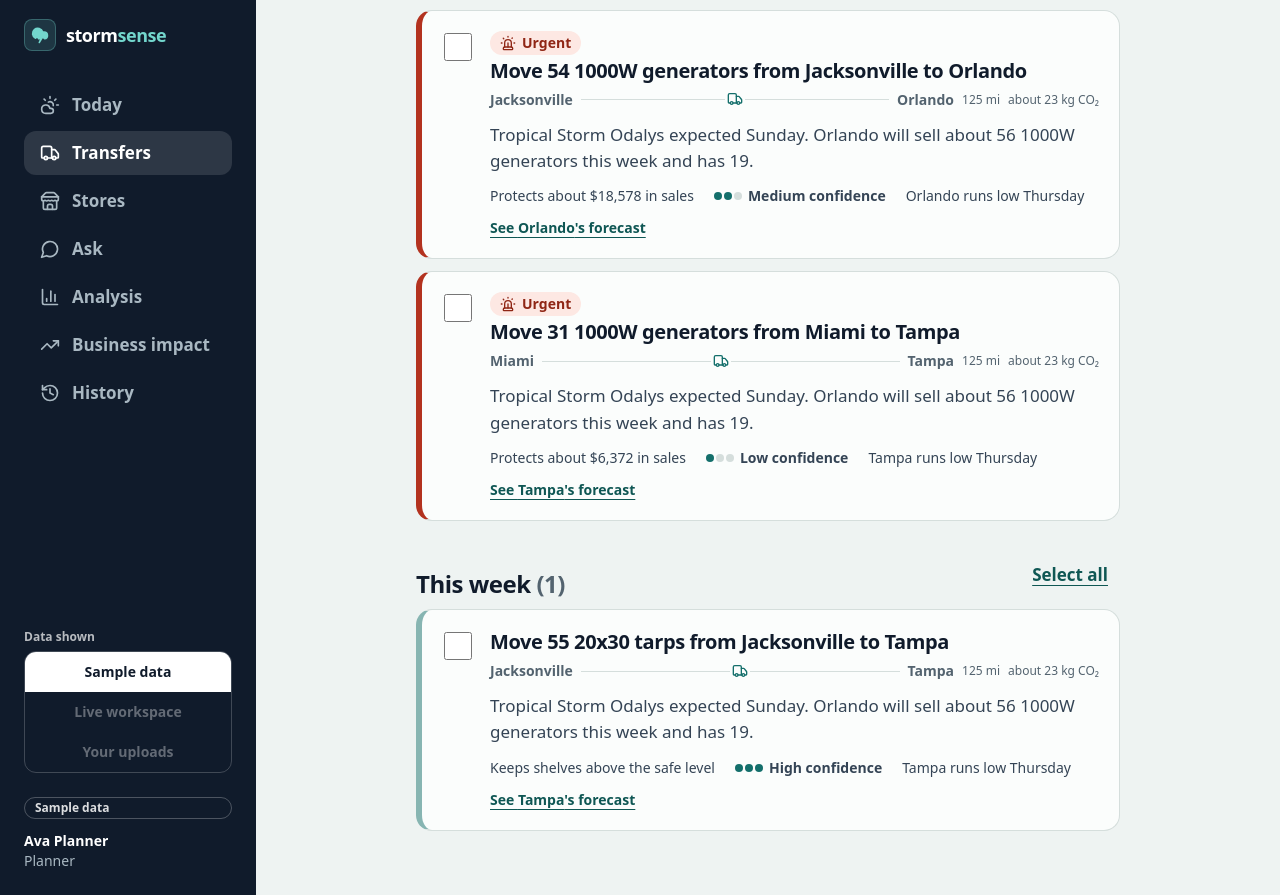
Test: Transfers › rejecting needs a reason and records it
(page scrolled)
Click the checkbox labelled "Move 55 20x30 tarps from Jacksonville to Tampa" at point(458, 646), box [444, 632, 472, 660]
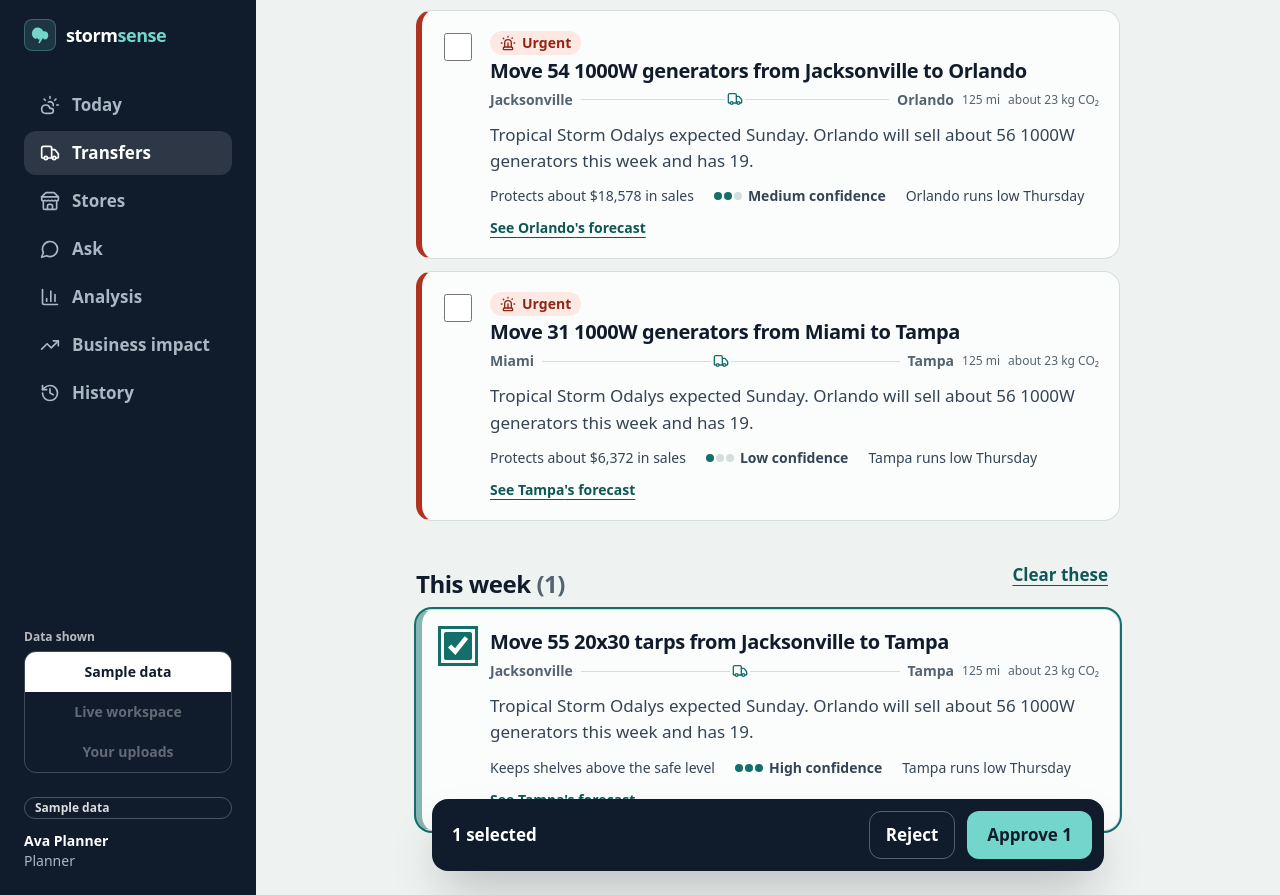
Click the button "Reject" at point(912, 835), box [869, 811, 955, 859]
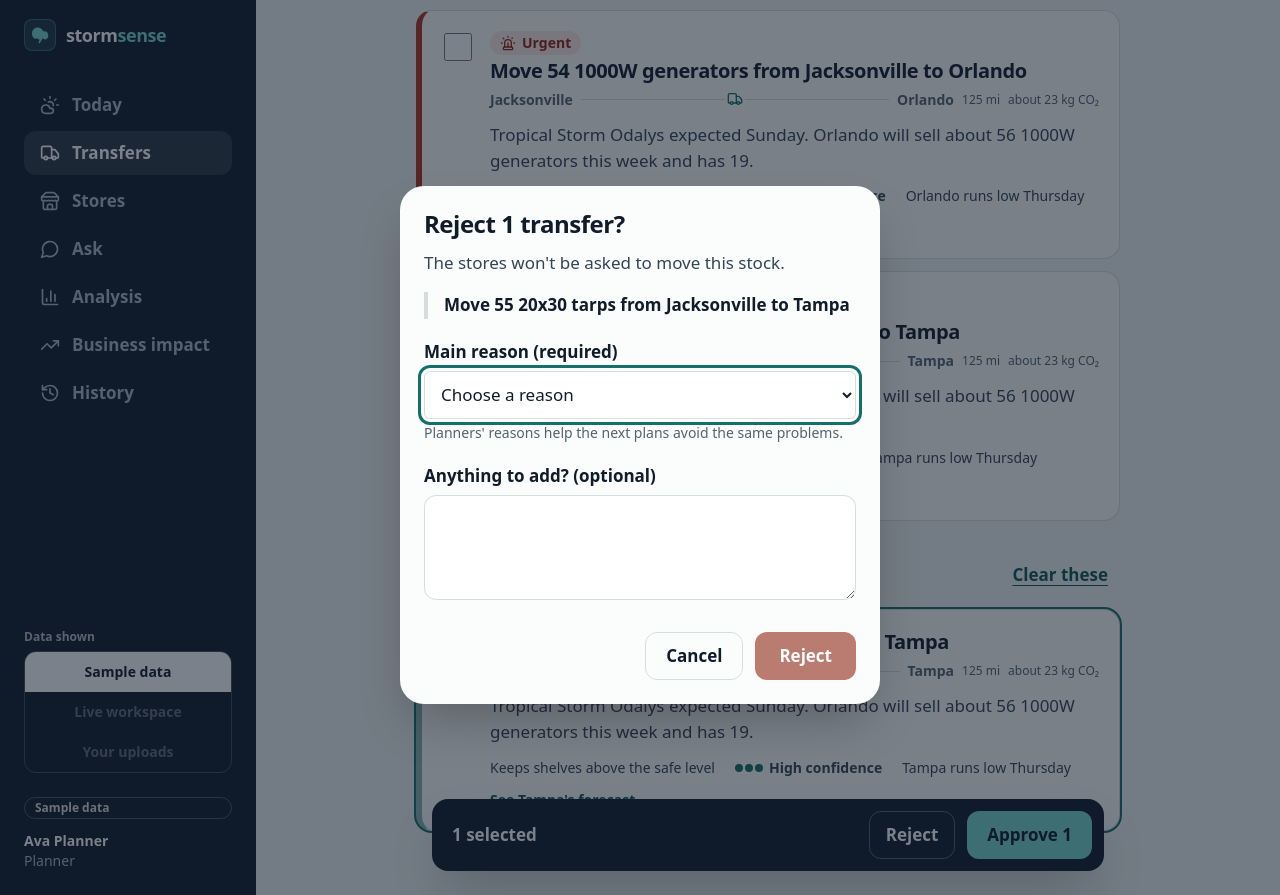
Check: the button "Reject" is disabled, box [755, 632, 856, 680]
Select "Store closed or not receiving" in the dropdown at point(640, 395), box [424, 371, 856, 419]
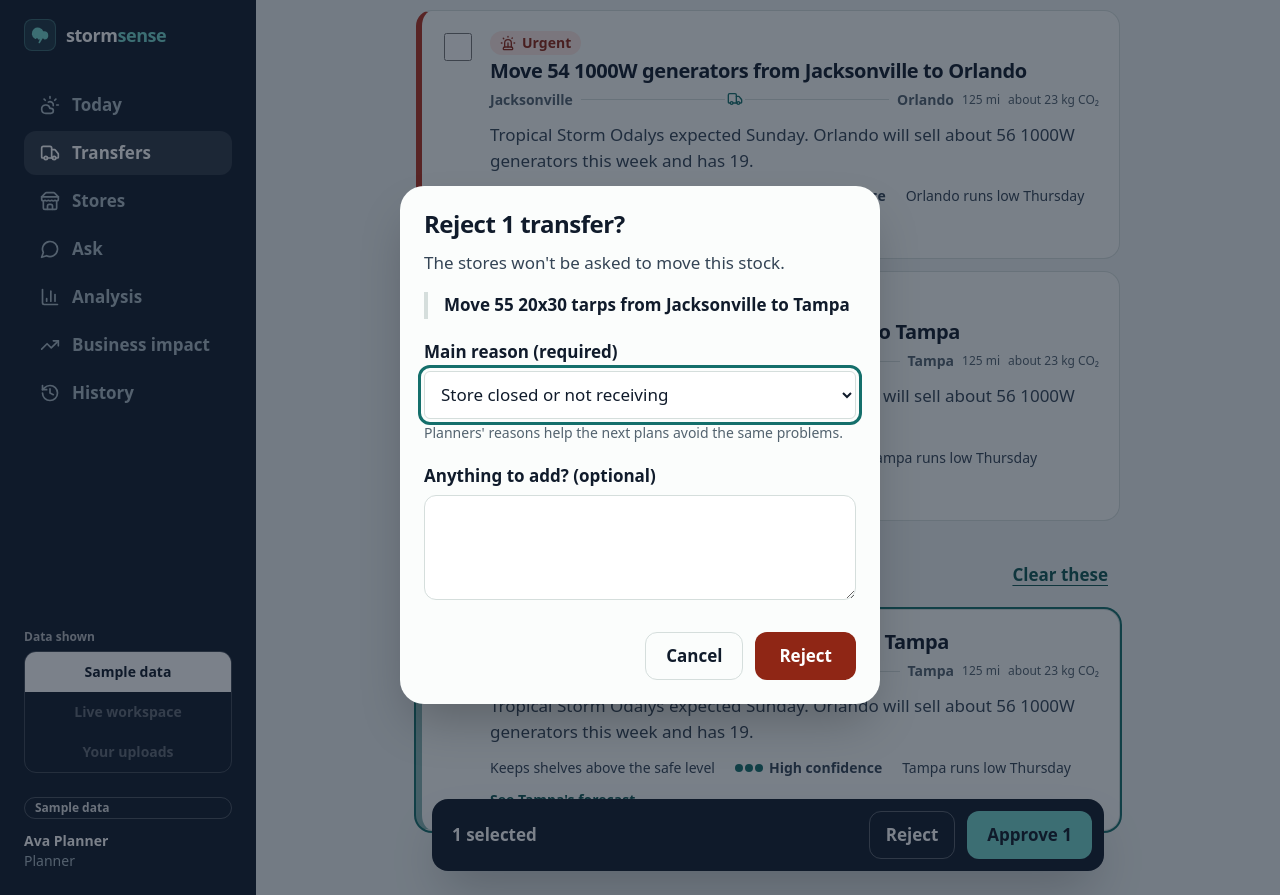
Type "Store is closed" into the text box labelled "Anything to add? (optional)" at point(640, 548), box [424, 495, 856, 600]
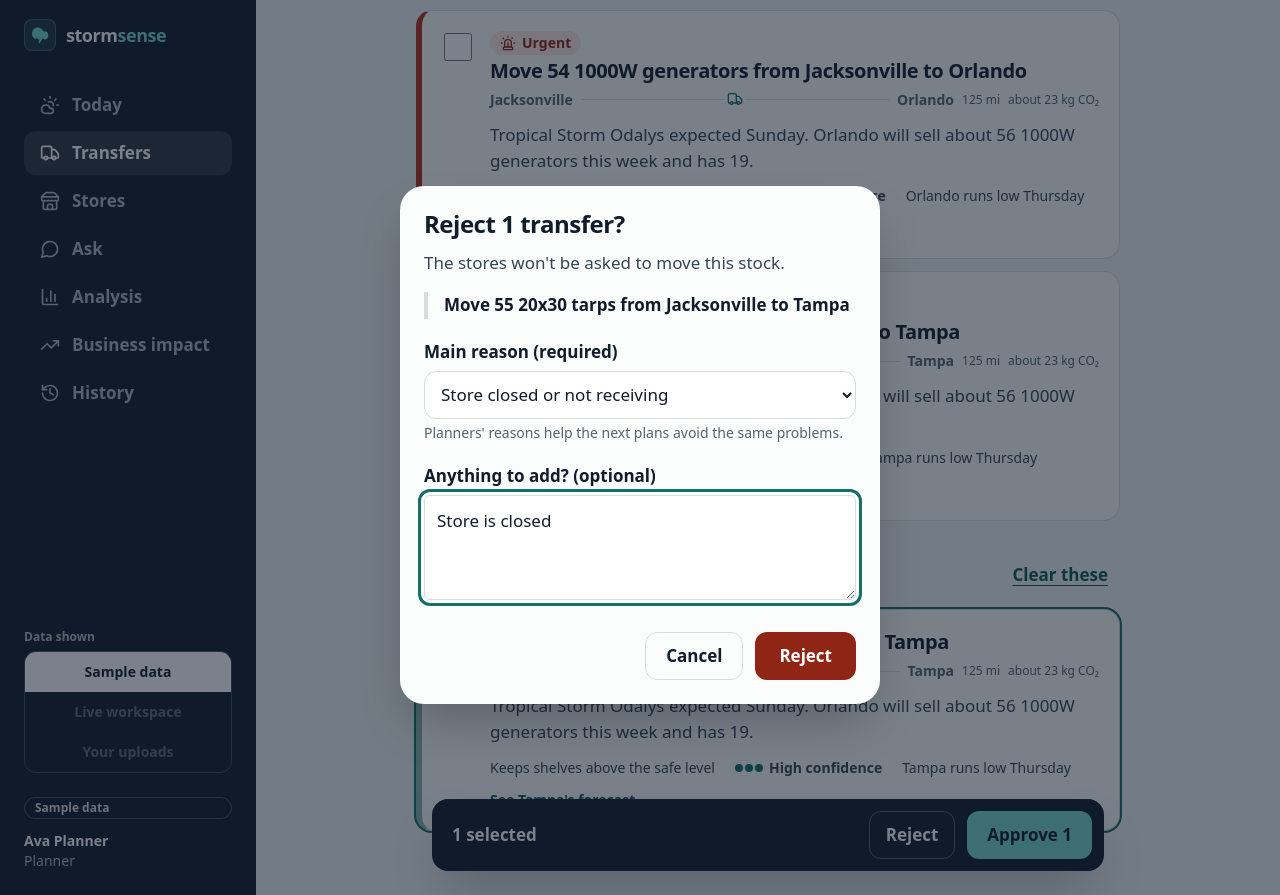
Click the button "Reject" at point(806, 656), box [755, 632, 856, 680]
(page scrolled)
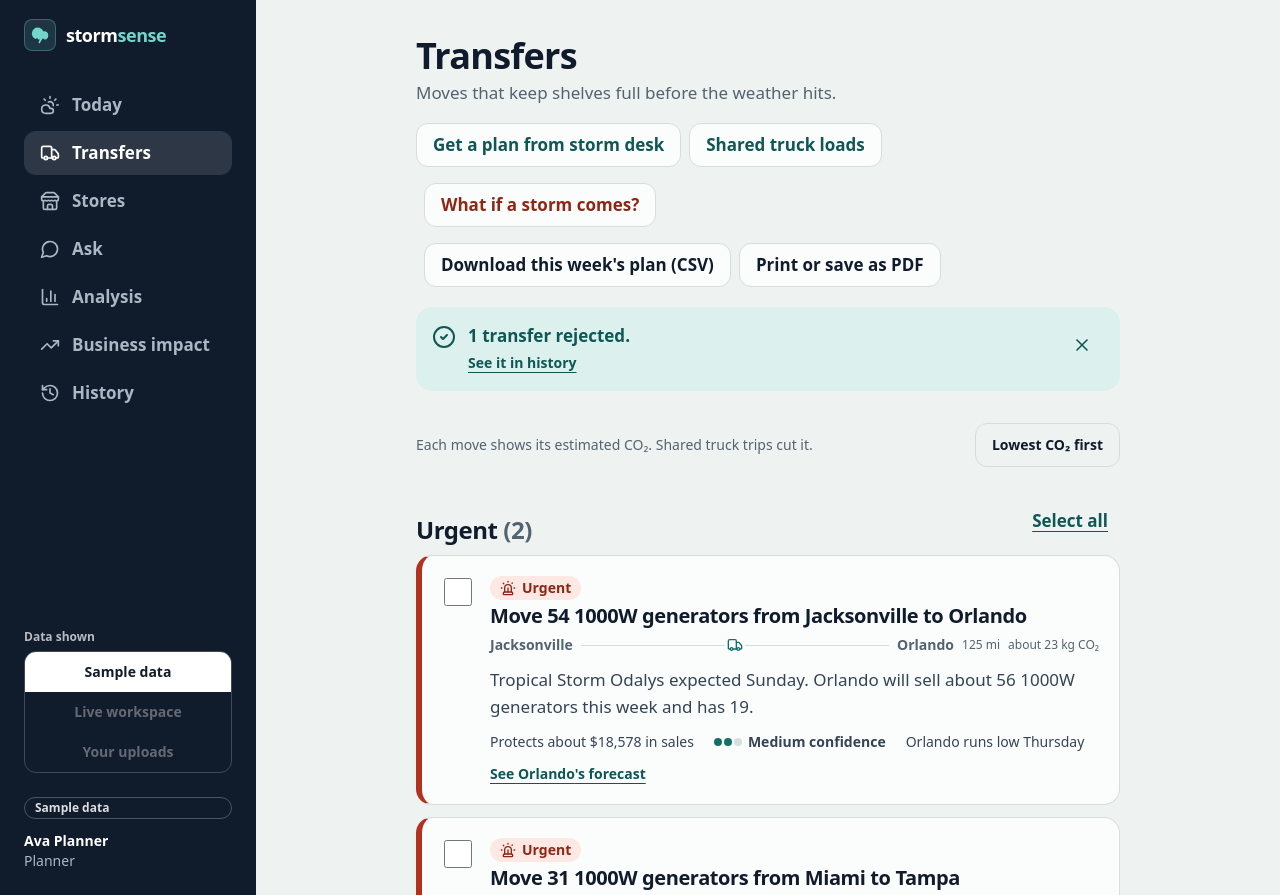
Check: the text "1 transfer rejected." is shown, box [468, 324, 630, 347]
